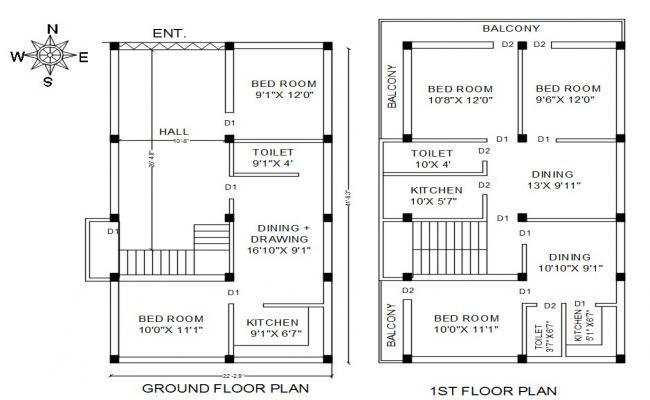Blueprint: (374, 36, 629, 368)
wall: (400, 48, 414, 136), (410, 354, 520, 365), (377, 136, 385, 282), (322, 48, 335, 136), (525, 353, 617, 365), (118, 355, 227, 365), (411, 272, 520, 282), (118, 273, 226, 283), (321, 280, 335, 357), (109, 48, 121, 137), (614, 48, 626, 136), (409, 39, 496, 51), (232, 354, 325, 365), (232, 40, 325, 51), (108, 279, 121, 357), (614, 279, 627, 356), (108, 141, 121, 216), (321, 141, 334, 215), (399, 297, 415, 357), (377, 170, 491, 178), (614, 140, 626, 216), (515, 48, 525, 137), (223, 47, 235, 116), (614, 220, 628, 276), (549, 39, 619, 50), (409, 216, 489, 225), (524, 216, 618, 223), (553, 135, 618, 145), (322, 220, 334, 274), (409, 136, 489, 144), (261, 301, 336, 309), (228, 171, 301, 179), (559, 301, 568, 365), (232, 138, 325, 144), (227, 301, 236, 357), (84, 217, 91, 283), (520, 301, 528, 357), (228, 220, 236, 275), (479, 191, 490, 224), (593, 301, 627, 310), (228, 141, 236, 179), (519, 242, 528, 275), (378, 136, 405, 144), (83, 276, 112, 283), (84, 216, 113, 223), (376, 275, 405, 282), (376, 217, 405, 224), (480, 158, 489, 179), (520, 301, 539, 310), (227, 197, 235, 216)
